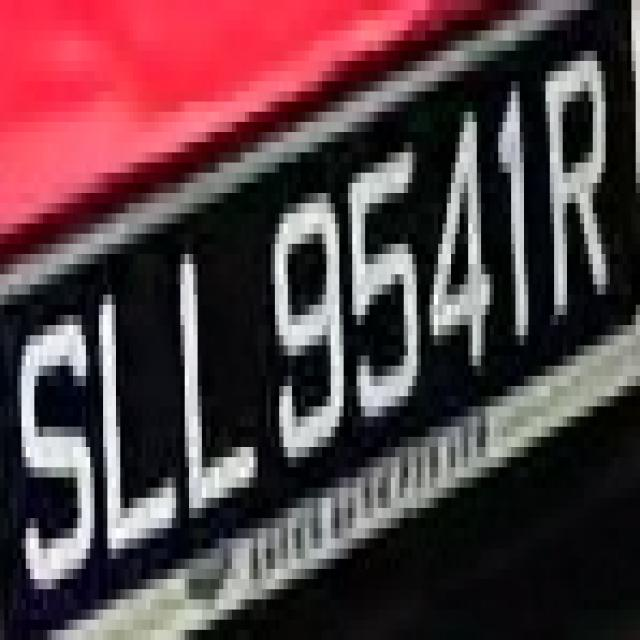1: (490, 20, 541, 376)
4: (408, 71, 494, 396)
5: (340, 122, 426, 447)
9: (262, 173, 348, 467)
L: (86, 234, 176, 599), (168, 213, 258, 559)
R: (532, 31, 618, 346)
S: (9, 264, 103, 599)
